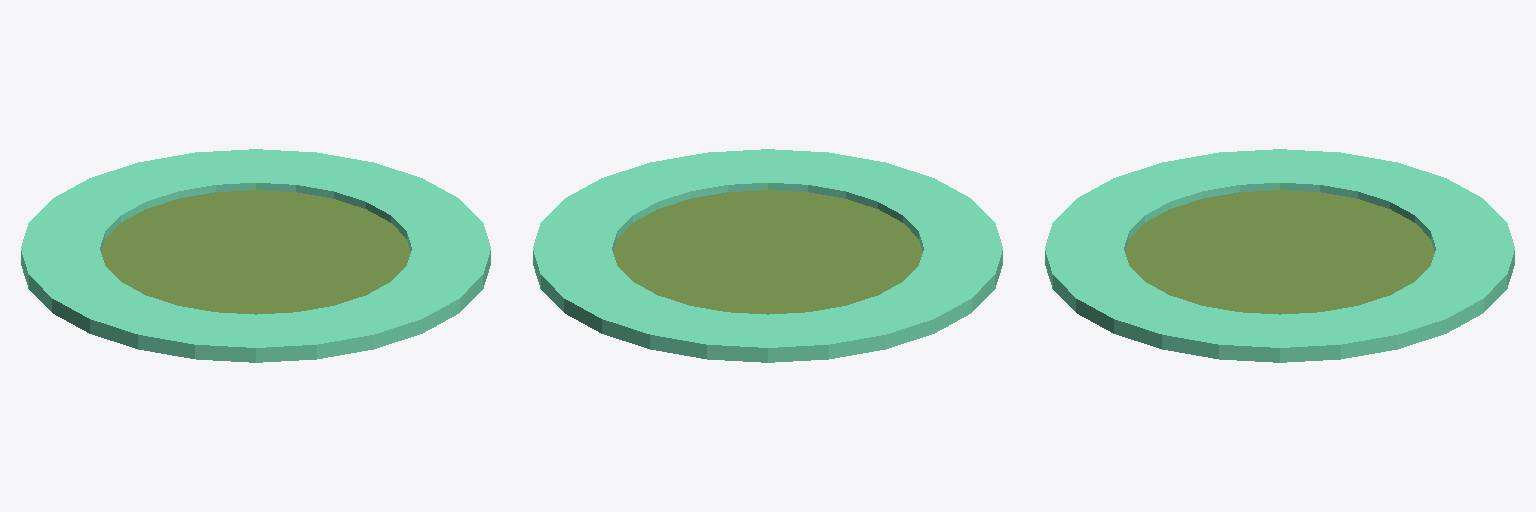
Rendered from Plate.obj.
The picture shows the model from 3 angles: view 1: azimuth 30°, elevation 25°; view 2: azimuth 150°, elevation 25°; view 3: azimuth 270°, elevation 25°; orthographic projection.
Parts seen in each view (by area): view 1: mergedBlocks; view 2: mergedBlocks; view 3: mergedBlocks.
Part boxes in pixels (x1,y1,x2,y2): mergedBlocks: (21, 149, 490, 362); mergedBlocks: (533, 149, 1002, 362); mergedBlocks: (1045, 149, 1514, 362).
Bounding box in the file's own units: 0.3 × 0.0104 × 0.3.